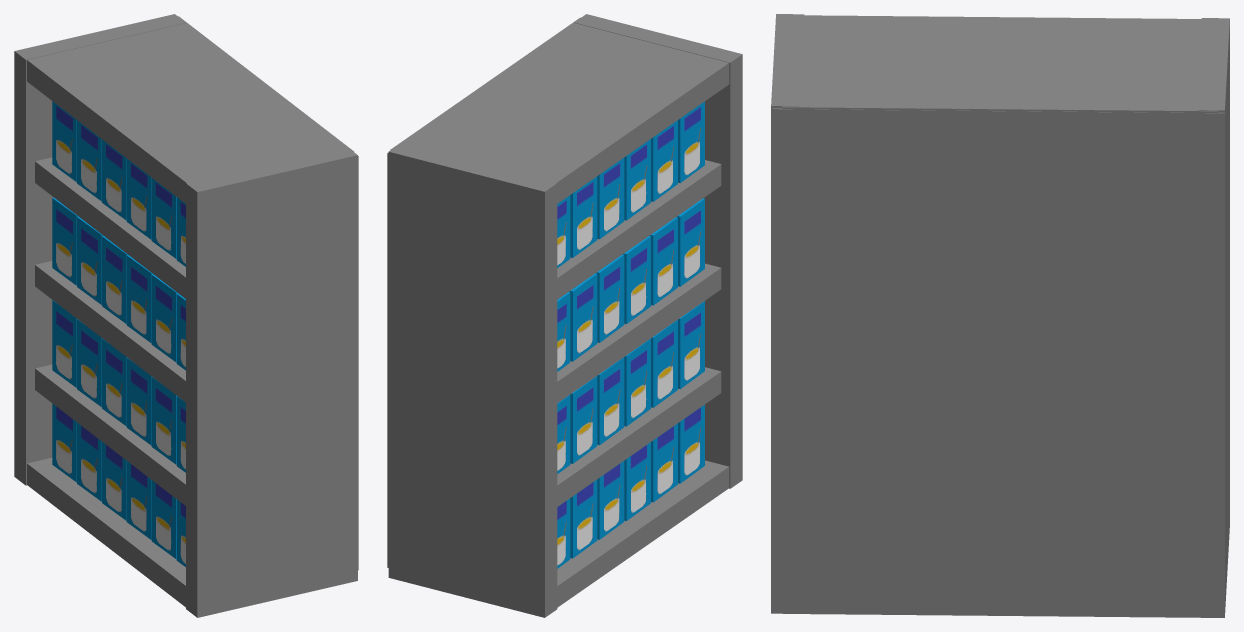
File: corn_cereal_shelf.gltf
3 views of the same model, side by side, from view 1: azimuth 30°, elevation 25°; view 2: azimuth 150°, elevation 25°; view 3: azimuth 270°, elevation 25° (orthographic). The views are drawn at different scales.
Parts seen in each view (by area): view 1: Cube.020; view 2: Cube.020; view 3: Cube.020.
Boxes of the visible parts, bbox=[...] form: Cube.020: bbox=[14, 14, 358, 617]; Cube.020: bbox=[387, 14, 742, 617]; Cube.020: bbox=[771, 14, 1229, 617].
Size of the model in its own units: 4.22 by 10.28 by 8.42.
3 materials, 1 textured.
